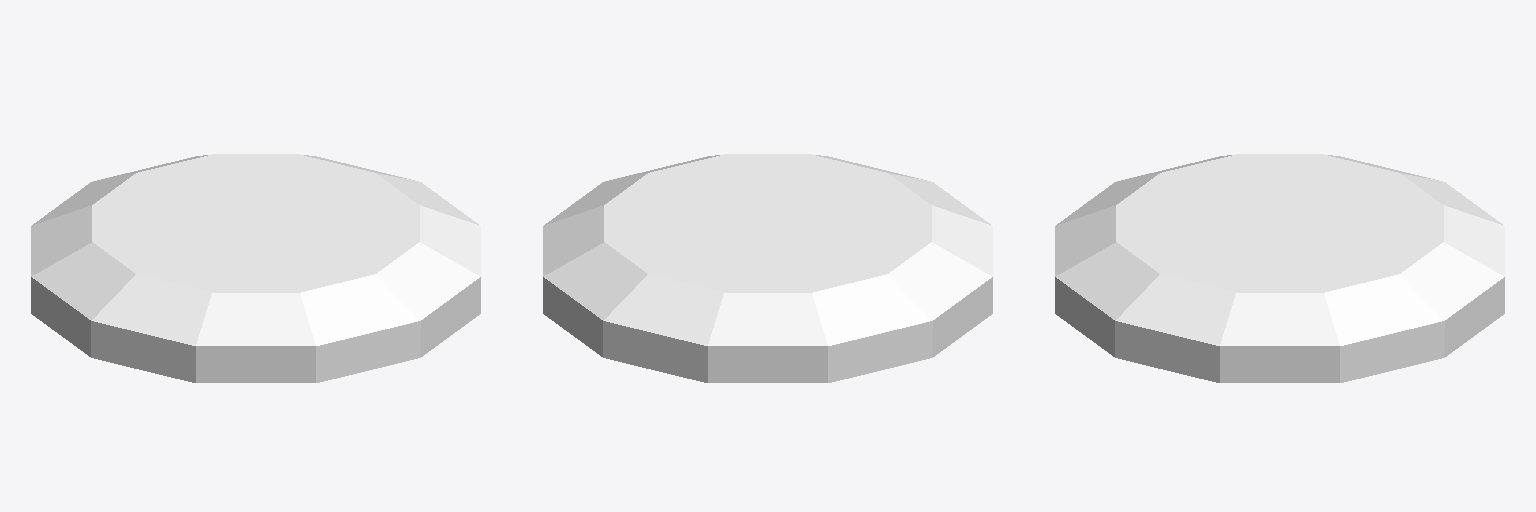
The model's file is millstone_bottom.obj.
The picture shows the model from 3 angles: view 1: azimuth 30°, elevation 25°; view 2: azimuth 150°, elevation 25°; view 3: azimuth 270°, elevation 25°; orthographic projection.
Visible parts, largest first — view 1: cylinder.000; view 2: cylinder.000; view 3: cylinder.000.
Part boxes in pixels (left/top/right/bottom): cylinder.000: left=31, top=154, right=480, bottom=382; cylinder.000: left=543, top=154, right=992, bottom=382; cylinder.000: left=1055, top=154, right=1504, bottom=382.
Size of the model in its own units: 1.38 by 0.2188 by 1.38.